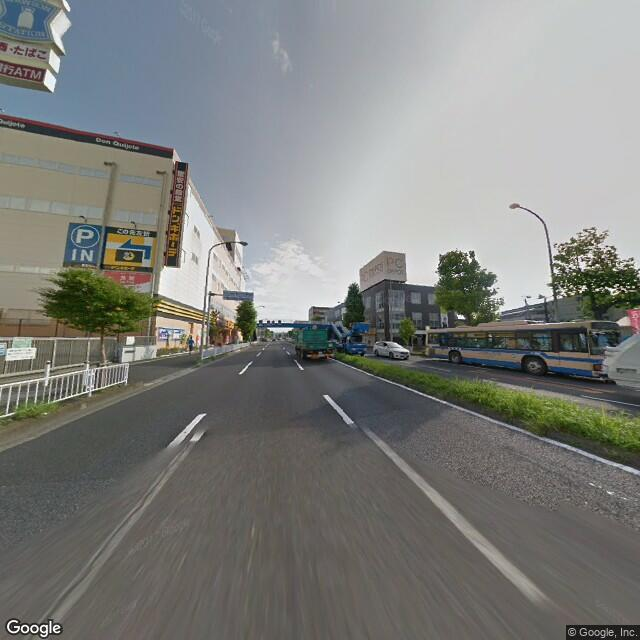lawson: (1, 1, 65, 49)
